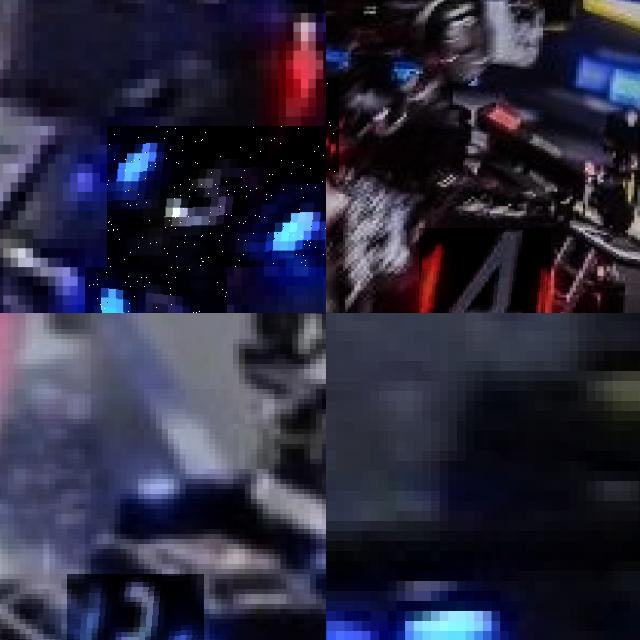B3: (67, 574, 203, 640)
B5: (107, 126, 326, 267), (85, 267, 226, 313)
R4: (418, 227, 551, 313)
